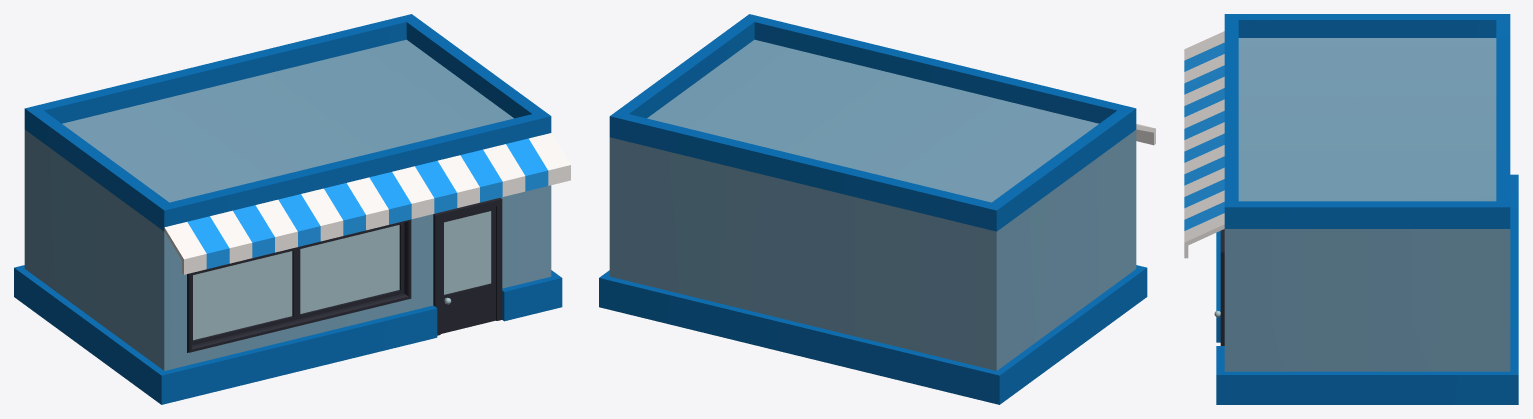
File: Env_CommercialBuilding_01 1.fbx
3 views of the same model, side by side, from view 1: azimuth 30°, elevation 25°; view 2: azimuth 150°, elevation 25°; view 3: azimuth 270°, elevation 25° (orthographic). The views are drawn at different scales.
Visible parts, largest first — view 1: Env_CommercialBuilding_01; view 2: Env_CommercialBuilding_01; view 3: Env_CommercialBuilding_01.
Part boxes in pixels (x1=…): Env_CommercialBuilding_01: x1=14, y1=14, x2=570, y2=404; Env_CommercialBuilding_01: x1=599, y1=14, x2=1155, y2=404; Env_CommercialBuilding_01: x1=1184, y1=14, x2=1518, y2=404.
Size of the model in its own units: 994 by 450 by 701.
1 material, 1 textured.
